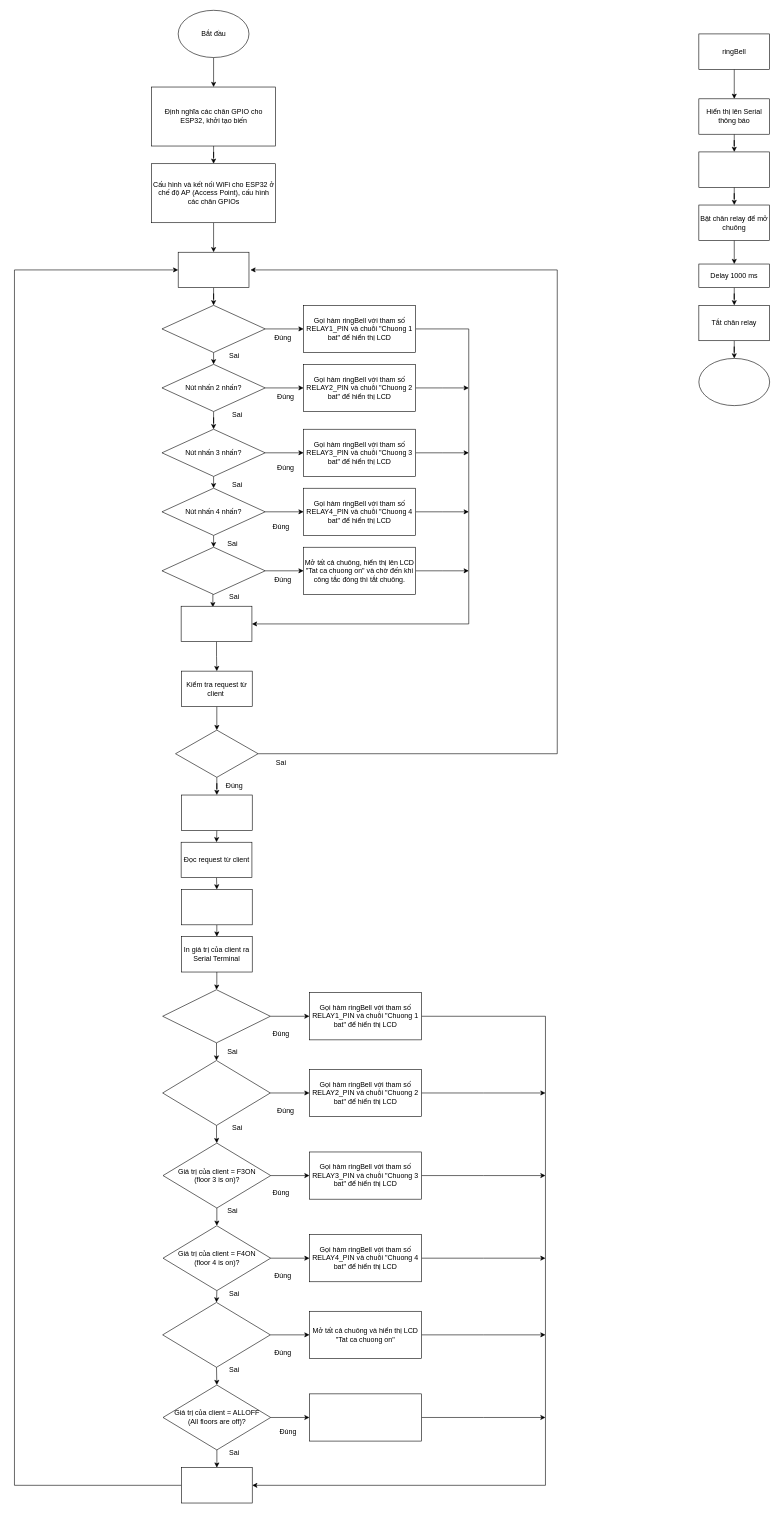
Some shapes in this 780 by 1513 pixel diagram are drawn without their labels. Each missing label, with the centre of its shape:
"Chờ đên khi client sẵn sàng" goes at point (216, 812).
"Có request từ client?" goes at point (216, 753).
"Công tắc tổng bật?" goes at point (213, 570).
"Delay 20ms" goes at point (216, 624).
"Giá trị của client = ALLON (All floors are on)?" goes at point (216, 1334).
"Giá trị của client = F1ON (floor 1 is on)?" goes at point (216, 1016).
"Giá trị của client = F2ON (floor 2 is on)?" goes at point (216, 1092).
"Hiển thị lên LCD thông báo" goes at point (734, 169).
"Kết thúc" goes at point (734, 382).
"Nút nhấn 1 nhấn?" goes at point (213, 329).
"Respond lại server giá trị vừa nhận" goes at point (216, 1485).
"Xử lí request của client về giá trị chuỗi" goes at point (216, 907).
"Đóng tất cả chuông." goes at point (365, 1417).
"Đọc nút nhấn" goes at point (213, 270).
